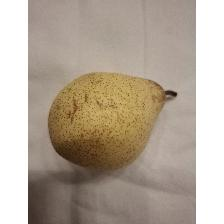Birne: (46, 69, 180, 175)
